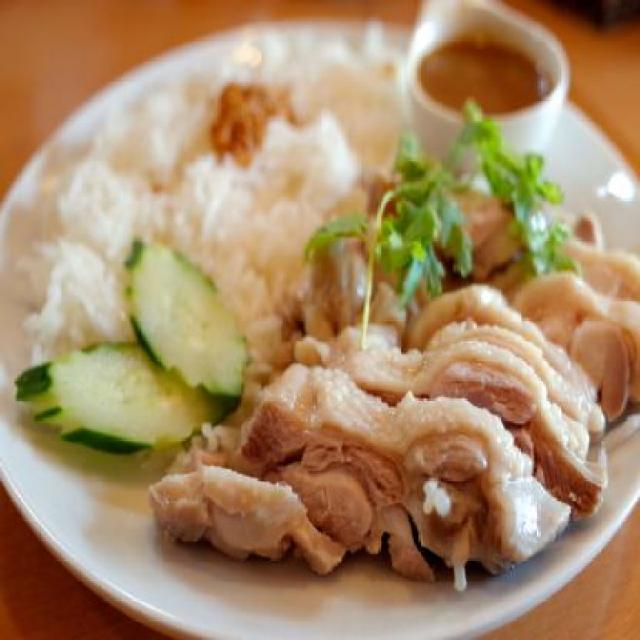Zucchini: (2, 331, 240, 464)
